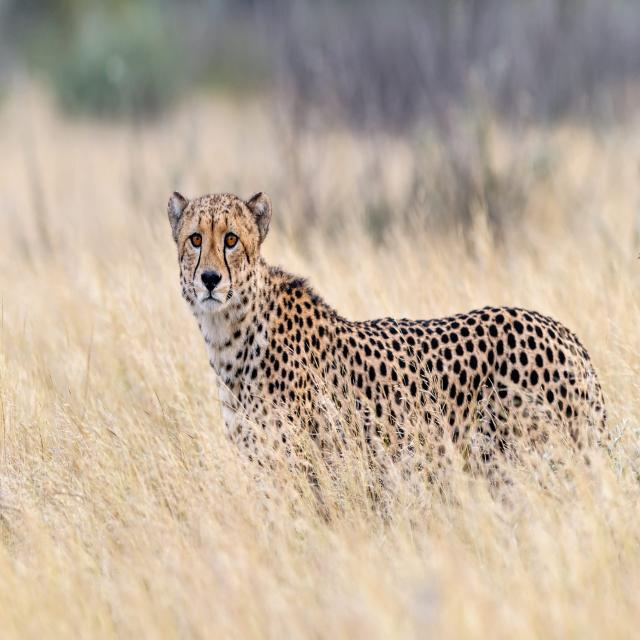Cheetah: (161, 177, 615, 517)
